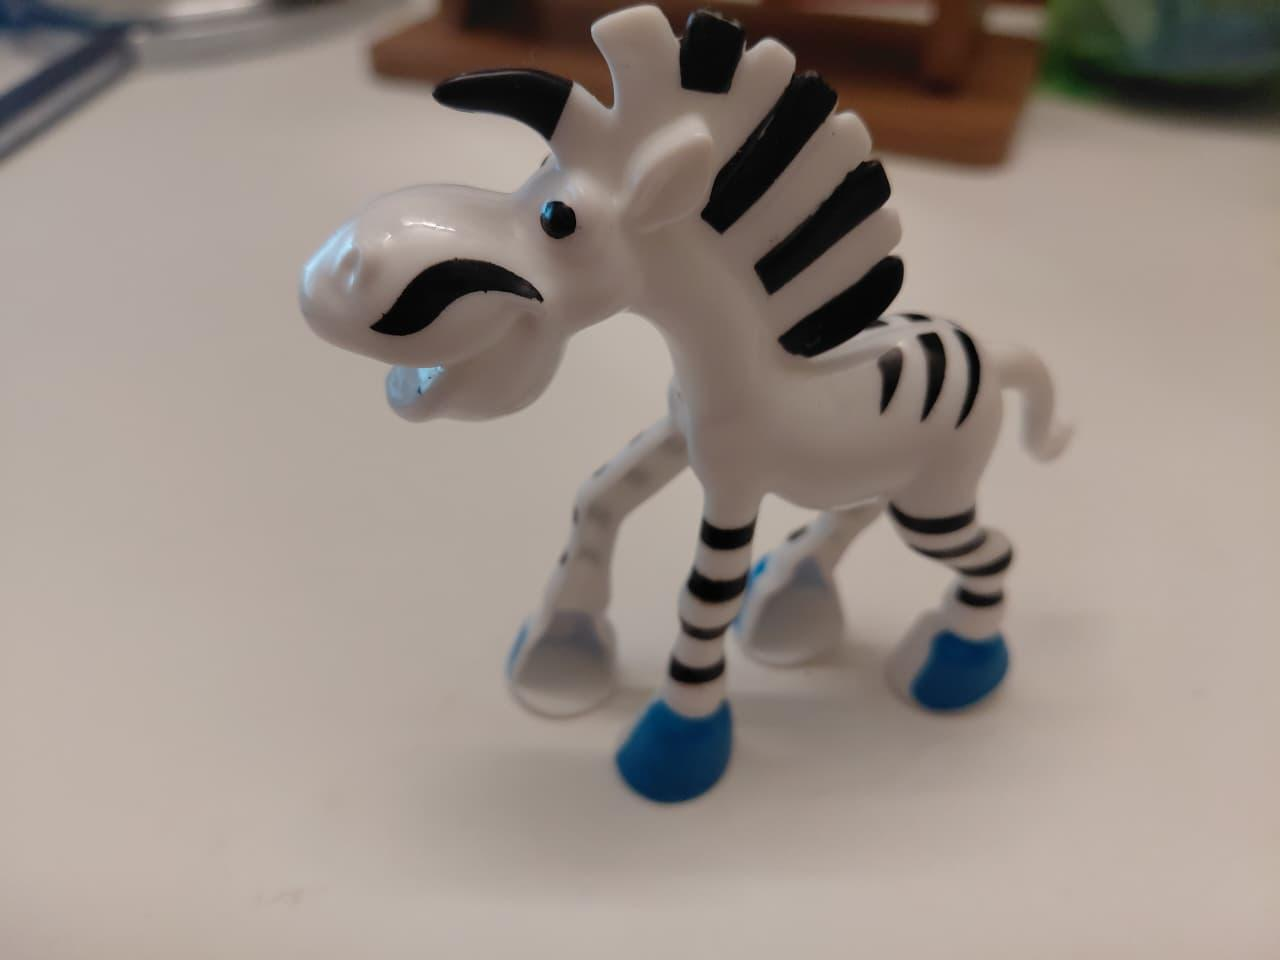zebra: (240, 2, 1142, 806)
